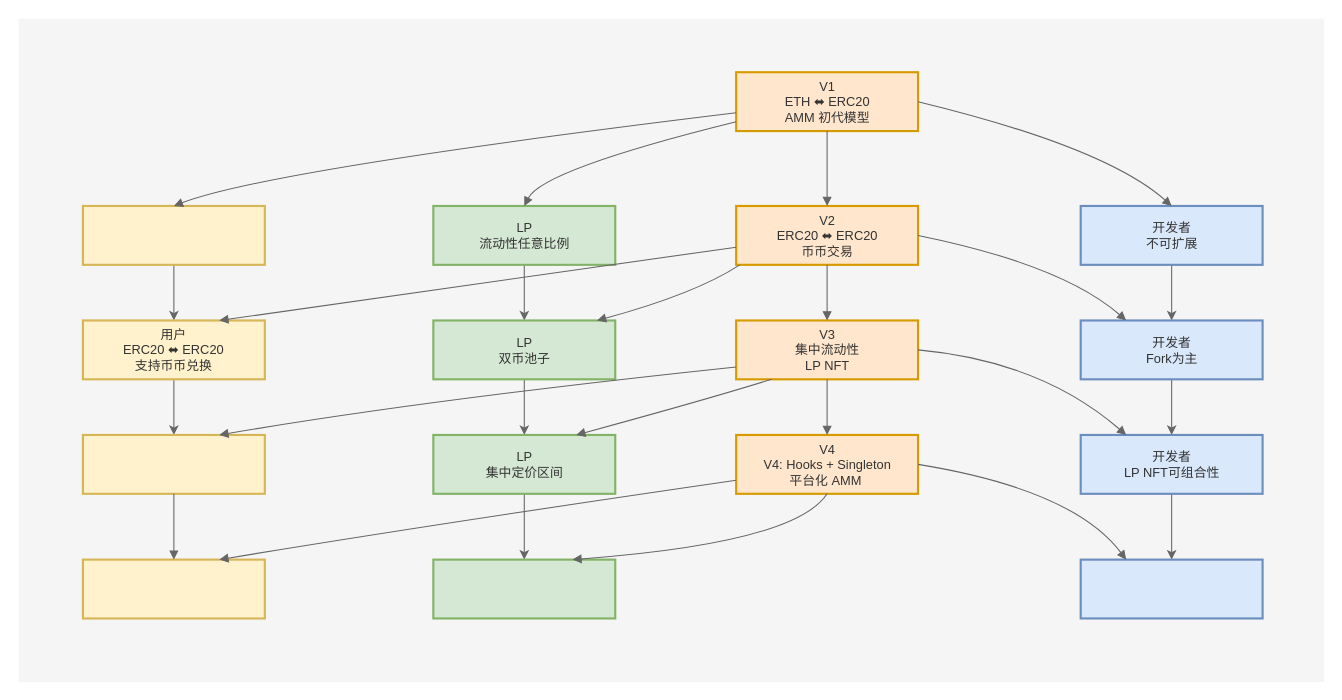
This 1342x700 diagram has some shape labels left out. The centre of each missing label's shape, as x and y in pixels:
LP 策略自动化: the point at 524,588
开发者 Hooks 编写插件逻辑: the point at 1171,588
用户 ETH ⬌ ERC20: the point at 173,234
用户 更低 Gas + 防 MEV: the point at 173,588
用户 更低滑点: the point at 173,463
